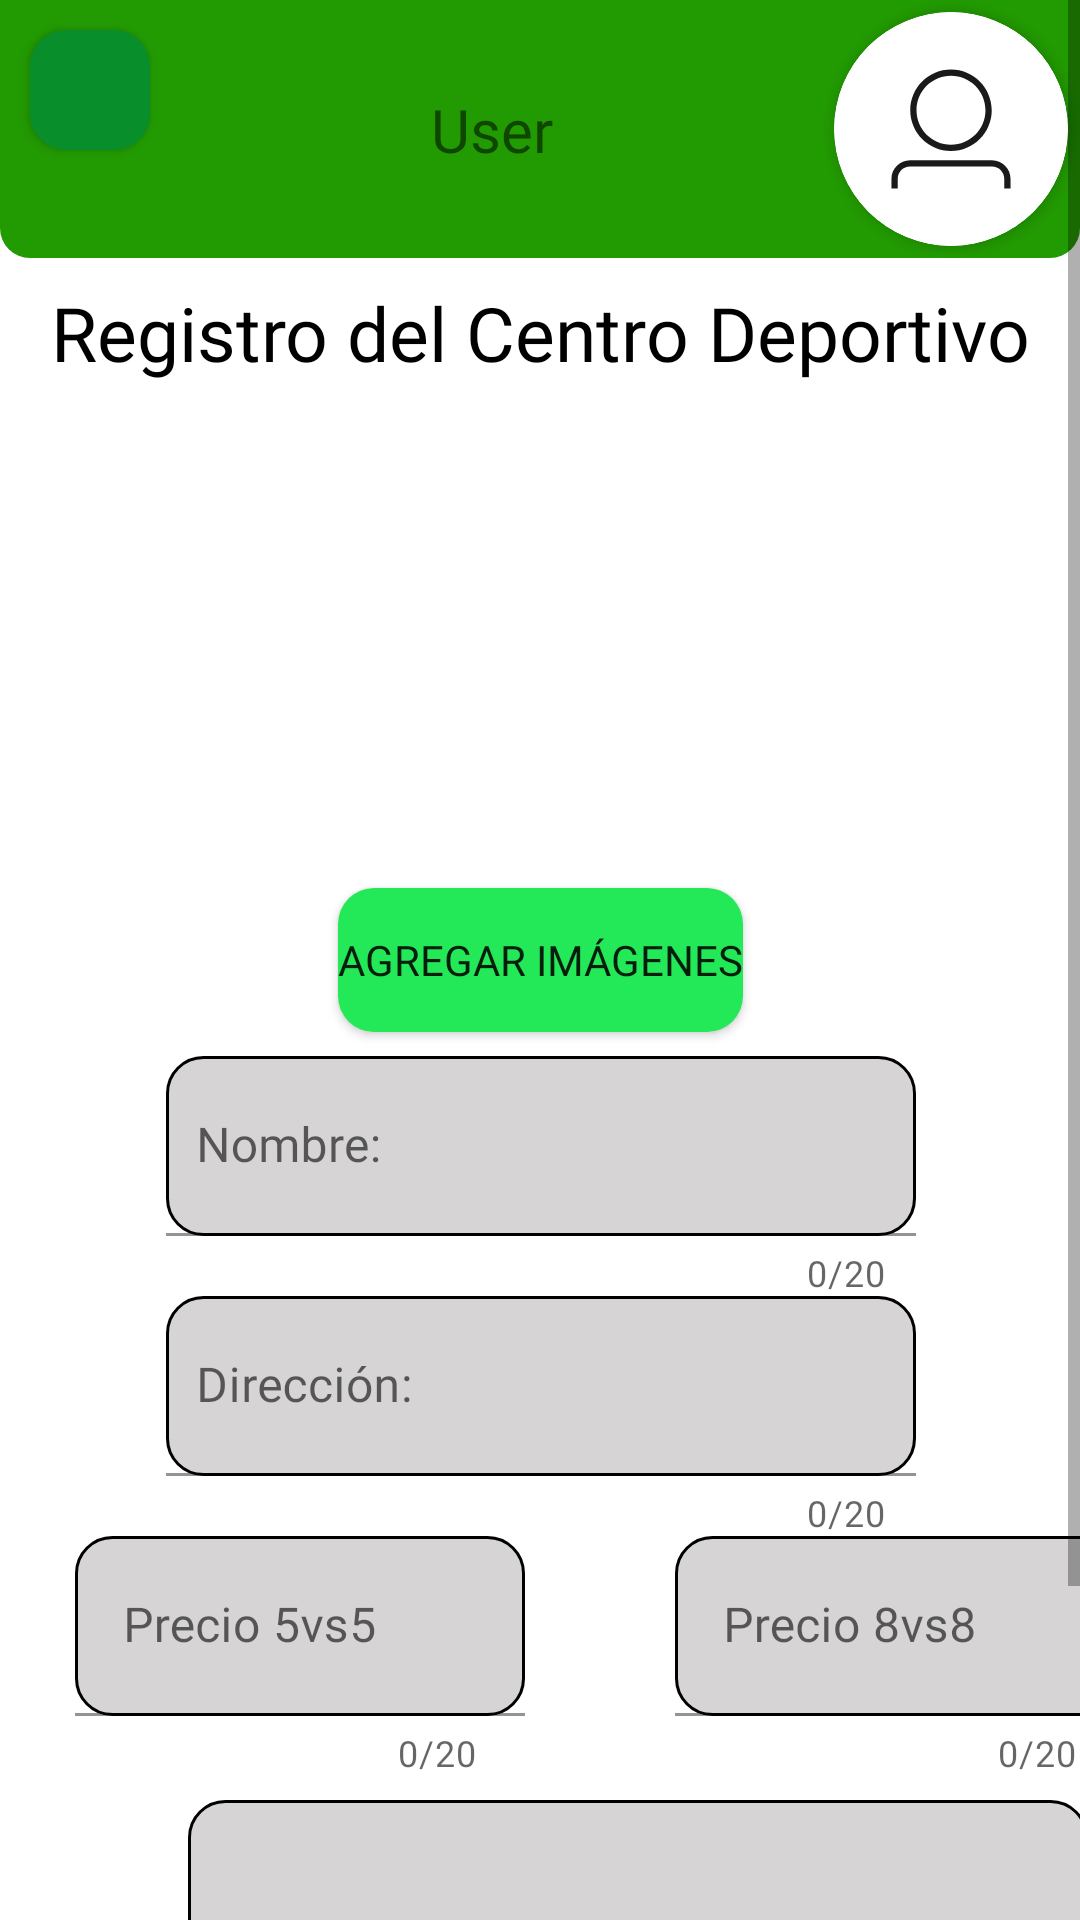

Icon bounding boxes for this 1080px x 1920px phone screenshot, format [left=x1, top=y1, right=x2, bottom=y2]:
user: [left=834, top=12, right=1068, bottom=246]
